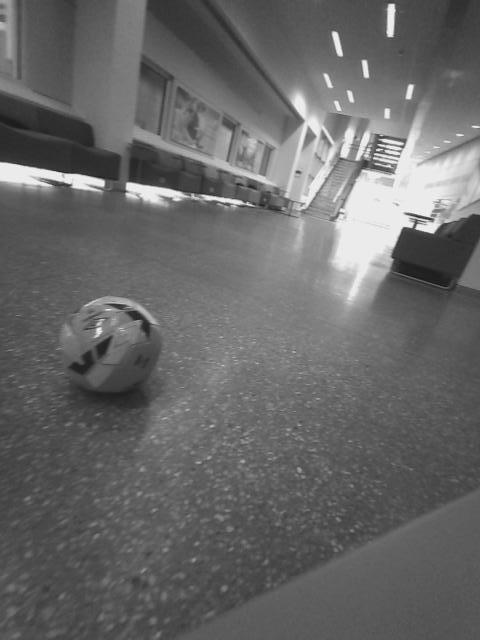ball: (295, 262, 344, 306)
